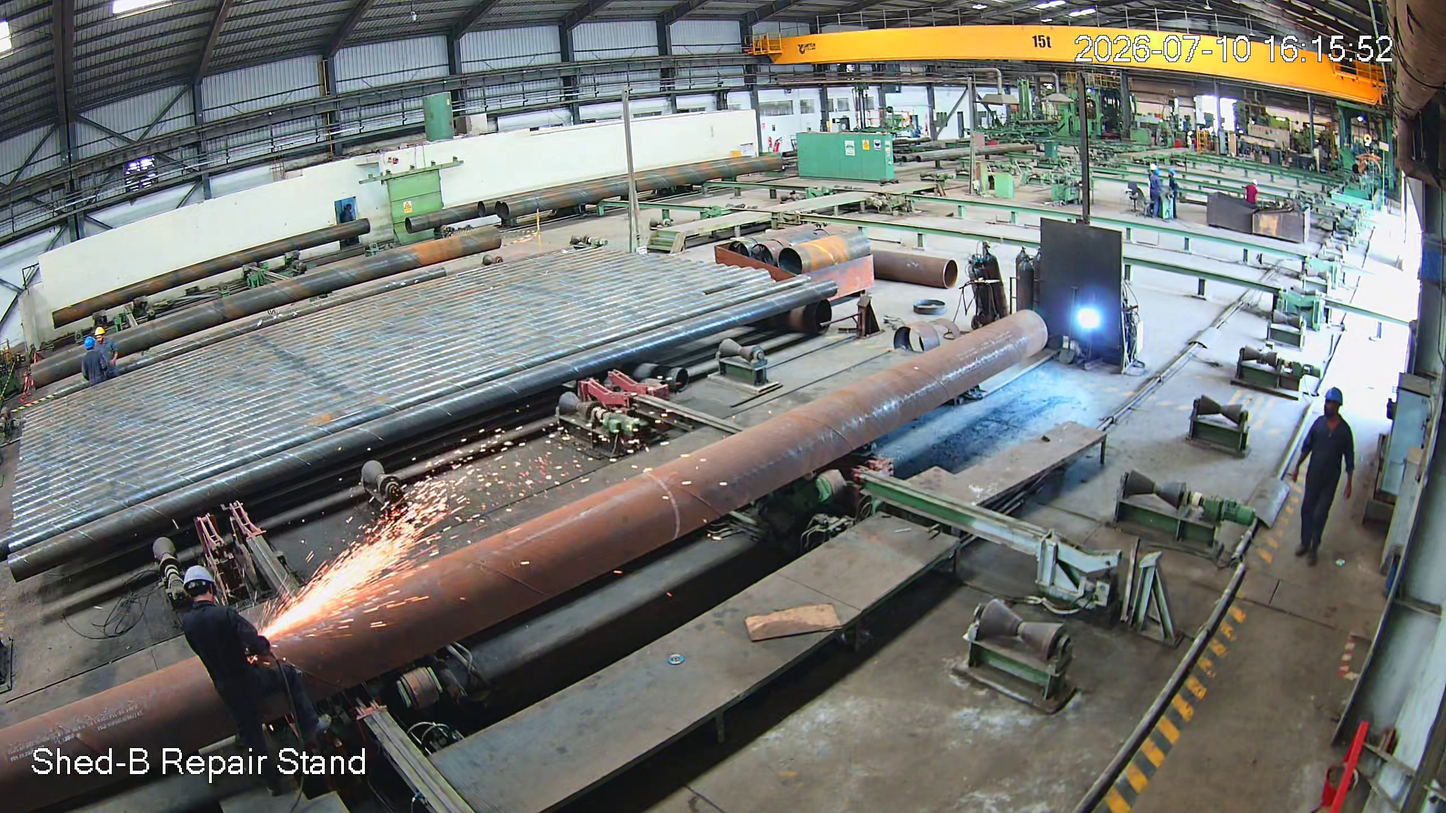Helmet: (177, 558, 242, 627), (1318, 380, 1347, 429), (82, 337, 98, 354), (94, 326, 107, 344), (1153, 167, 1163, 178), (1252, 178, 1259, 186)
Person: (168, 565, 327, 807), (1288, 387, 1360, 569), (95, 324, 120, 381), (81, 338, 106, 385), (1149, 169, 1165, 215), (1168, 170, 1180, 219), (1244, 179, 1260, 206), (1168, 169, 1178, 179)
